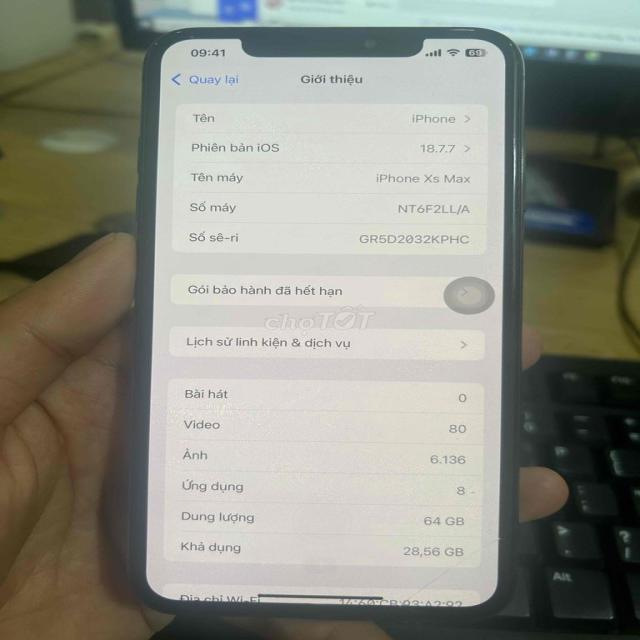gen_x_xs: (128, 25, 522, 620)
